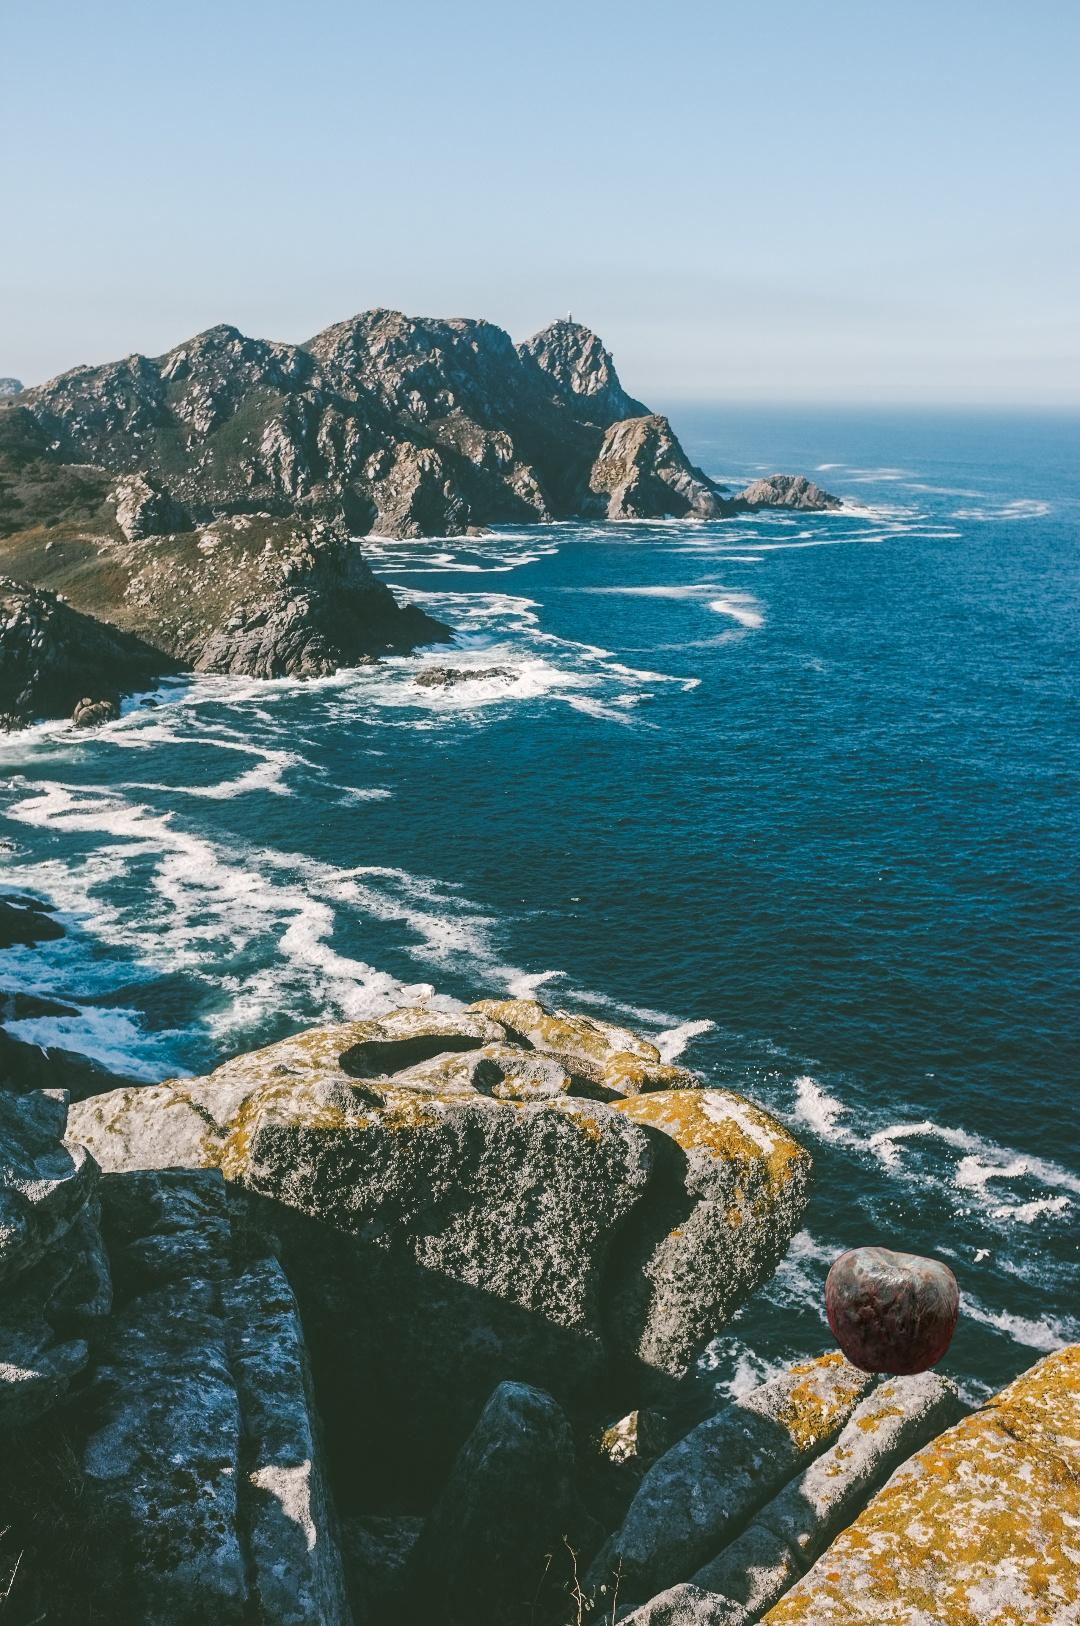biological: (822, 1243, 962, 1378)
paper: (841, 1302, 1080, 1626)
